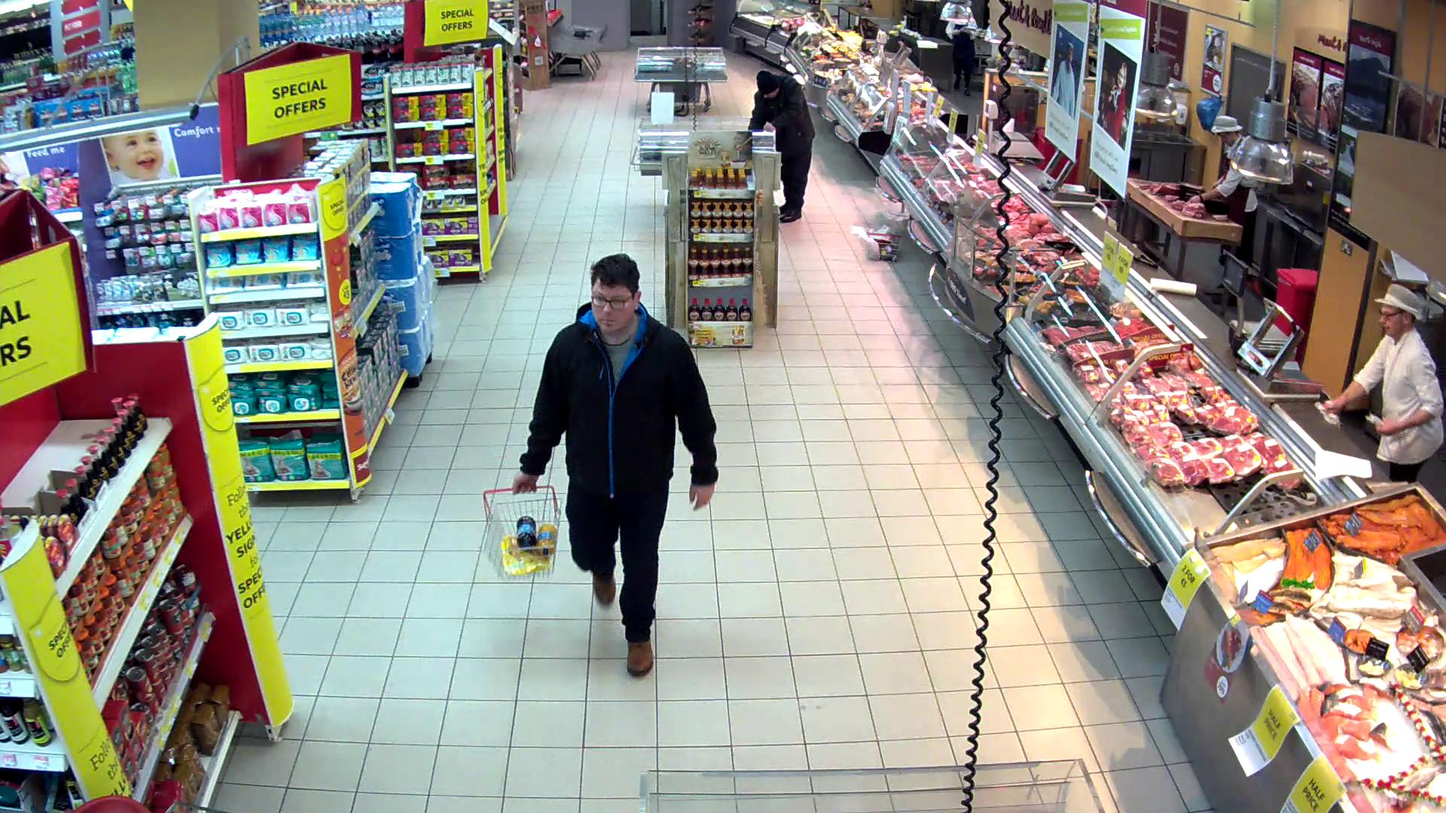filled-basket: (479, 482, 563, 579)
person: (516, 253, 719, 679)
person-with-filled-basket-trolly: (478, 252, 720, 675)
